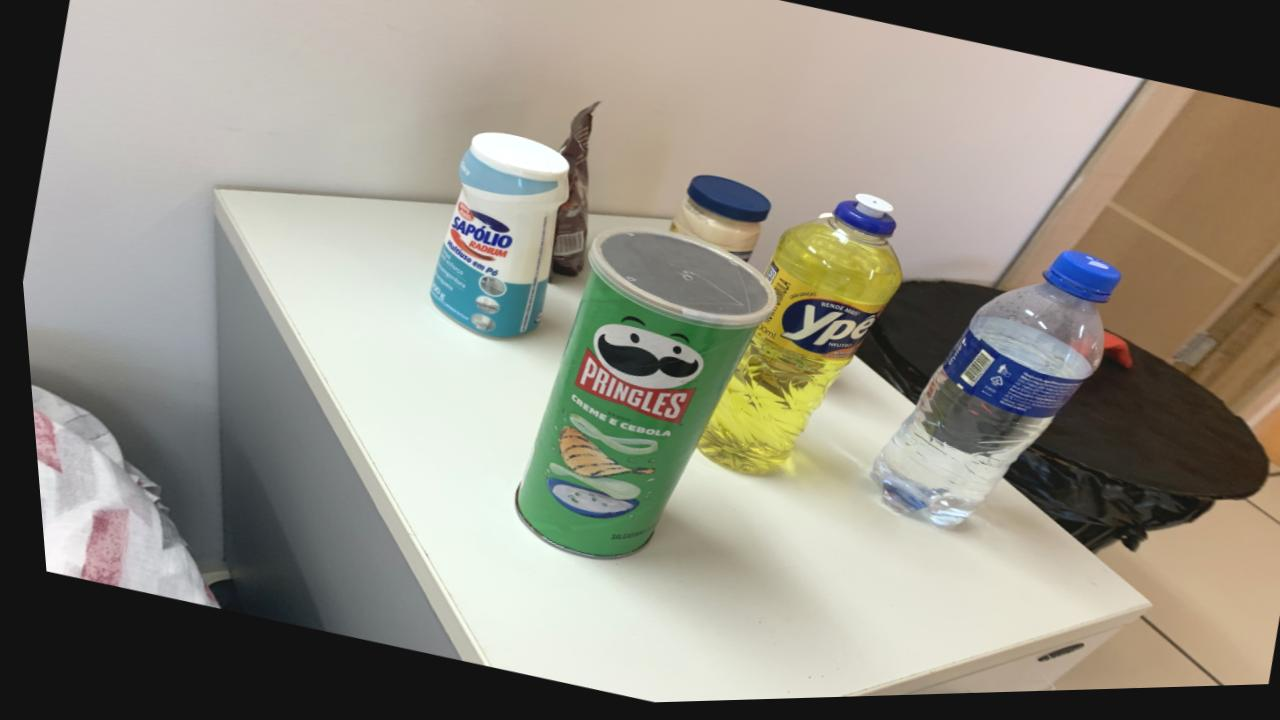Cleaner-Cleanup_Items: (425, 135, 567, 341)
Coffee-Pantry_Items: (546, 105, 596, 280)
Detergent-Cleanup_Items: (690, 199, 898, 479)
Mayonnaise-Pantry_Items: (666, 179, 767, 266)
Pringles-Snacks: (506, 231, 771, 561)
Water_Bottle-Drinks: (864, 259, 1114, 534)
